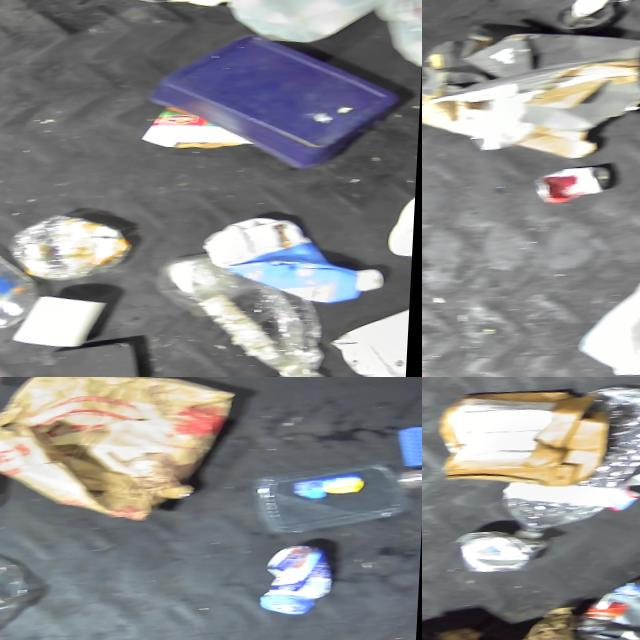can: (261, 551, 340, 625), (534, 169, 613, 209), (410, 377, 422, 419)
milk_jug: (235, 0, 400, 55), (579, 244, 640, 377), (371, 0, 422, 82)
plastic_bottle: (153, 248, 335, 377), (511, 392, 640, 546)
